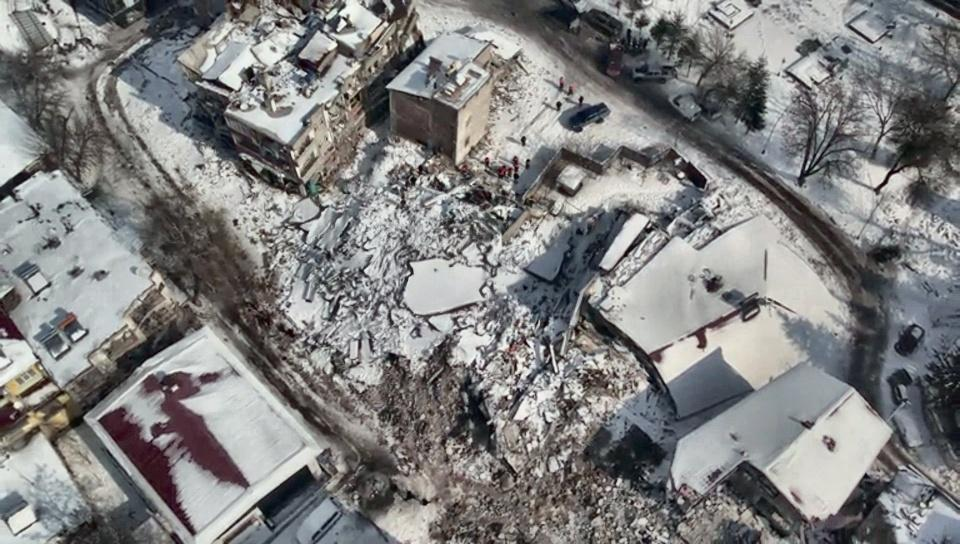kapali: (177, 232, 585, 543)
